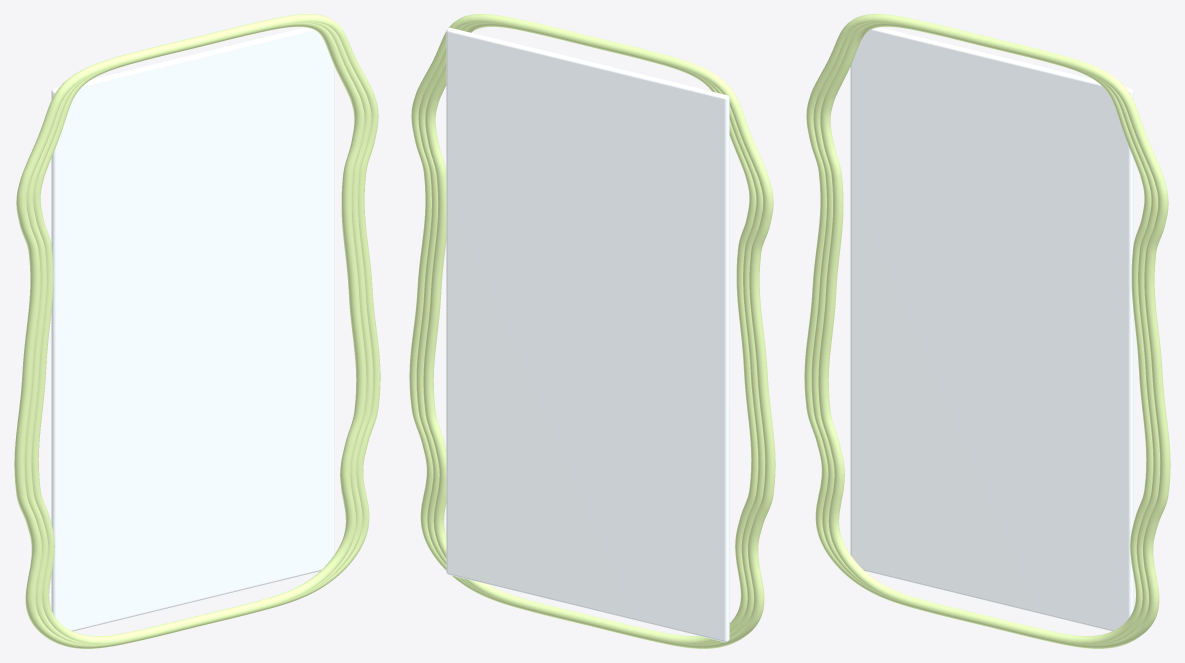
File: ref02_02.glb
The picture shows the model from 3 angles, left to right: view 1: azimuth 30°, elevation 25°; view 2: azimuth 150°, elevation 25°; view 3: azimuth 330°, elevation 25°; orthographic projection.
Parts seen in each view (by area): view 1: ref02_02; view 2: ref02_02; view 3: ref02_02.
Part boxes in pixels (x1,y1,x2,y2): ref02_02: (14, 14, 380, 648); ref02_02: (409, 14, 775, 648); ref02_02: (804, 14, 1170, 648).
Bounding box in the file's own units: 0.698 × 1.08 × 0.03.
